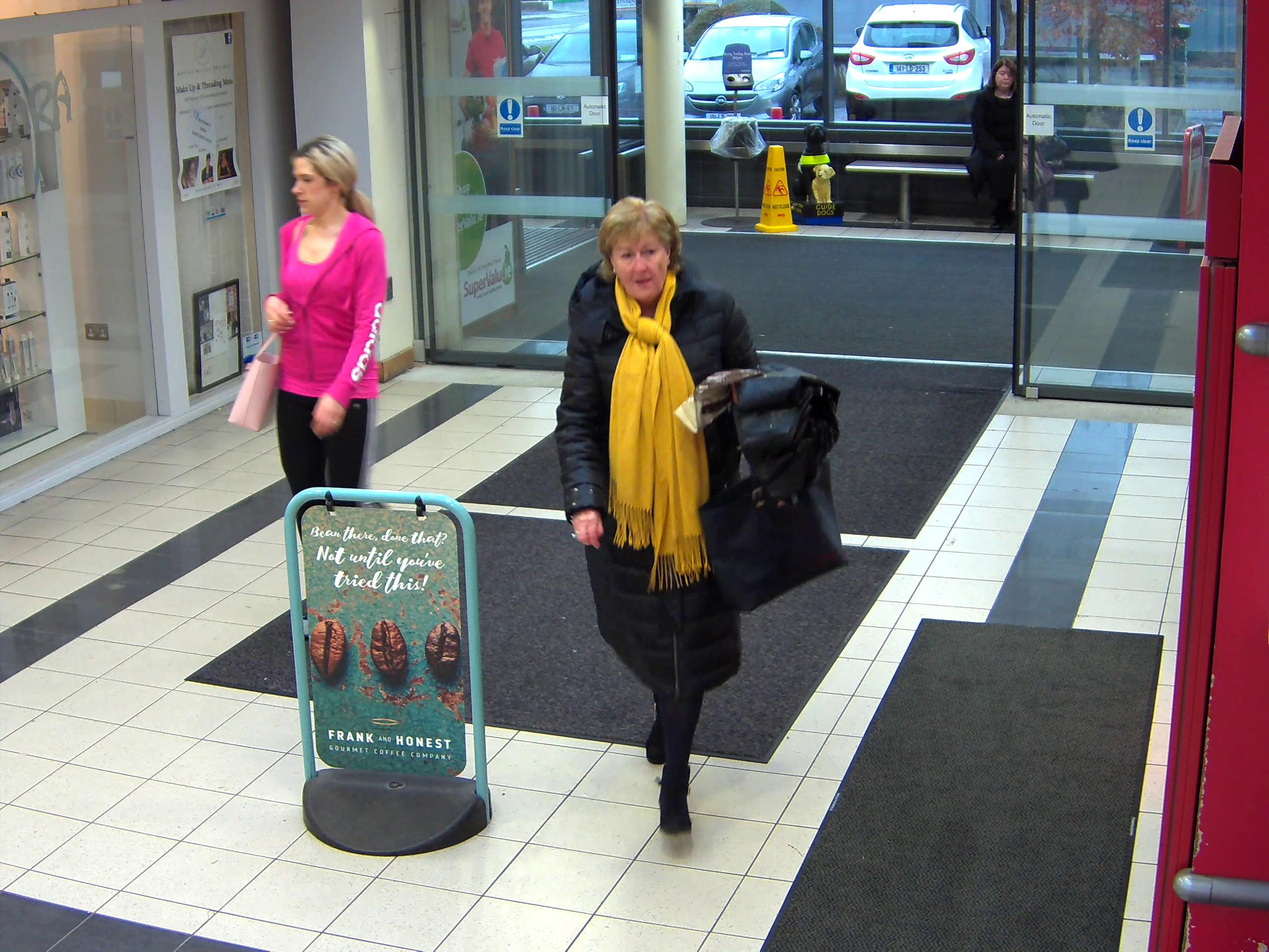backpack-or-handbag: (703, 455, 852, 614), (229, 346, 282, 431)
person: (557, 195, 761, 837), (262, 134, 388, 518)
person-with-backpack-handbag: (557, 195, 852, 837), (228, 132, 386, 514)
